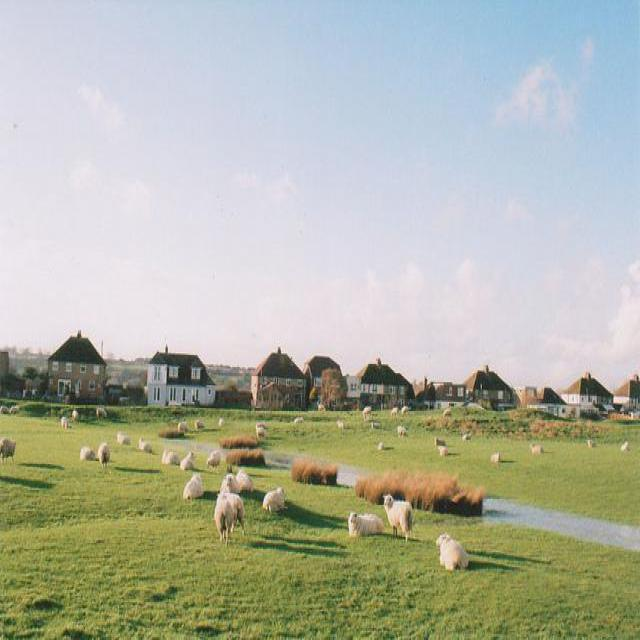Sheep: (56, 399, 632, 494)
